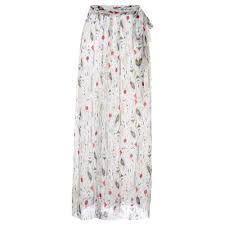C_skirt: (65, 3, 166, 225)
